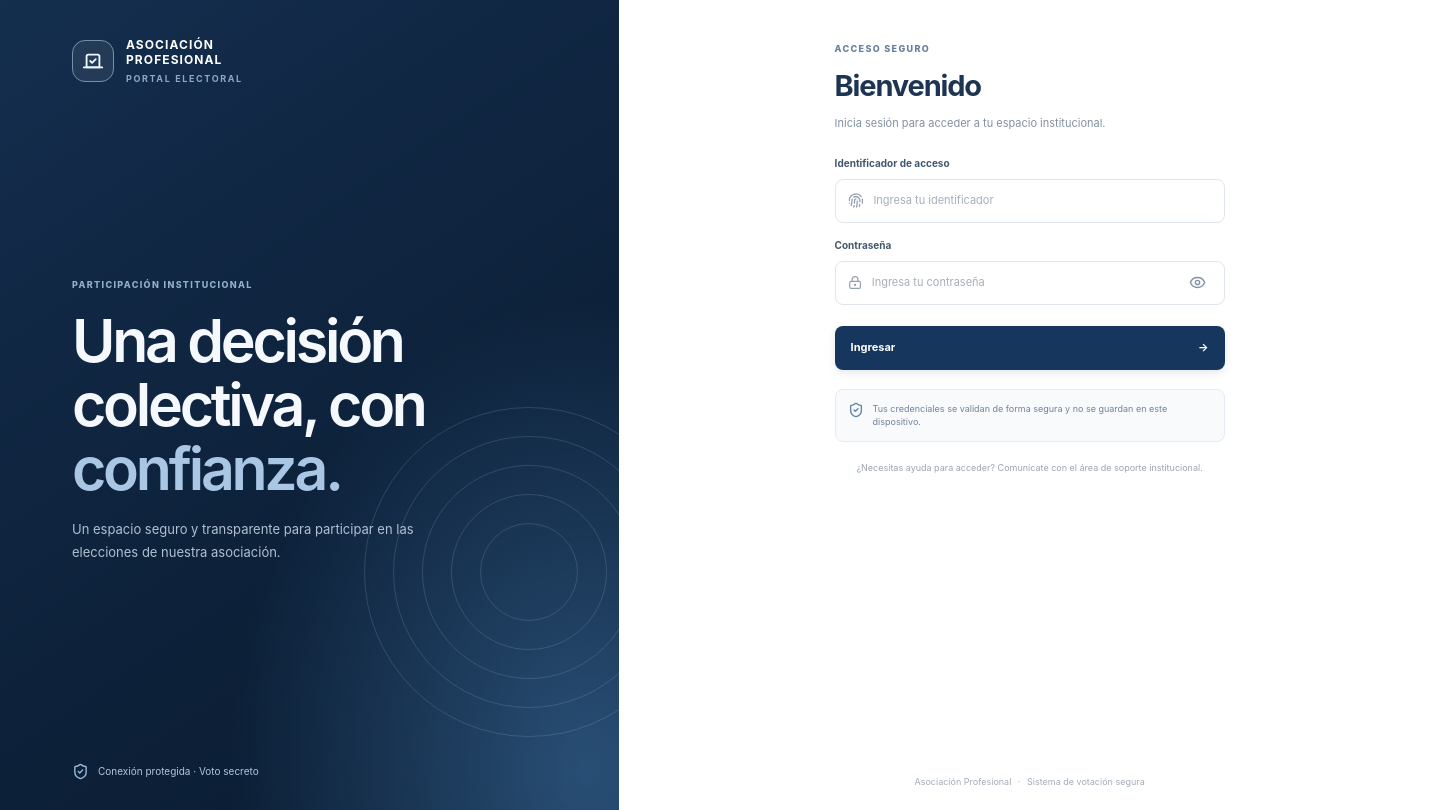
inicio de sesión › informa un error de autenticación sin revelar credenciales
Type "socio1" into the field labelled "Identificador de acceso". click: coordinates (1042, 200)
box: [873, 180, 1212, 221]
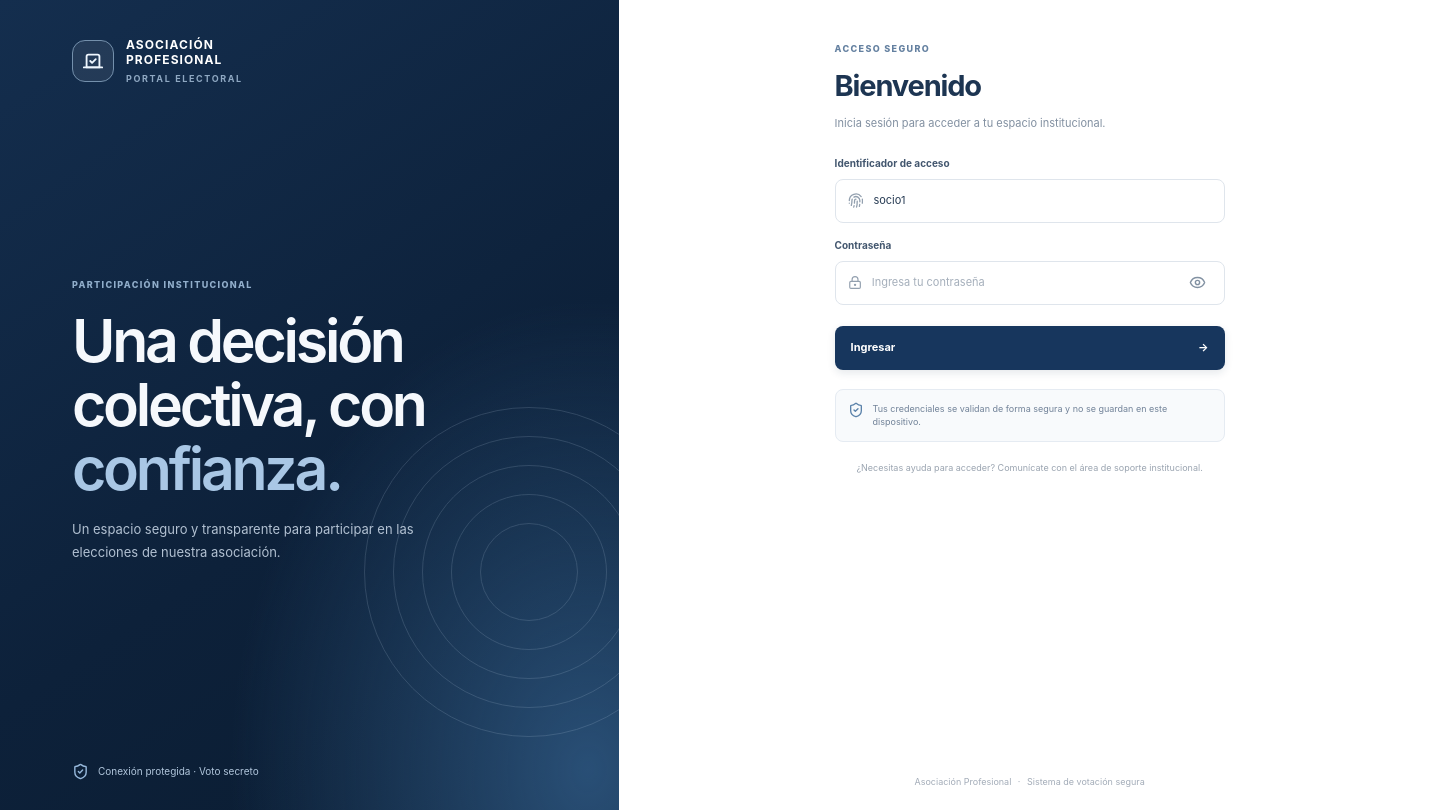
Type "incorrecta" into the password field labelled "Contraseña". click: coordinates (1023, 282)
box: [872, 262, 1174, 303]
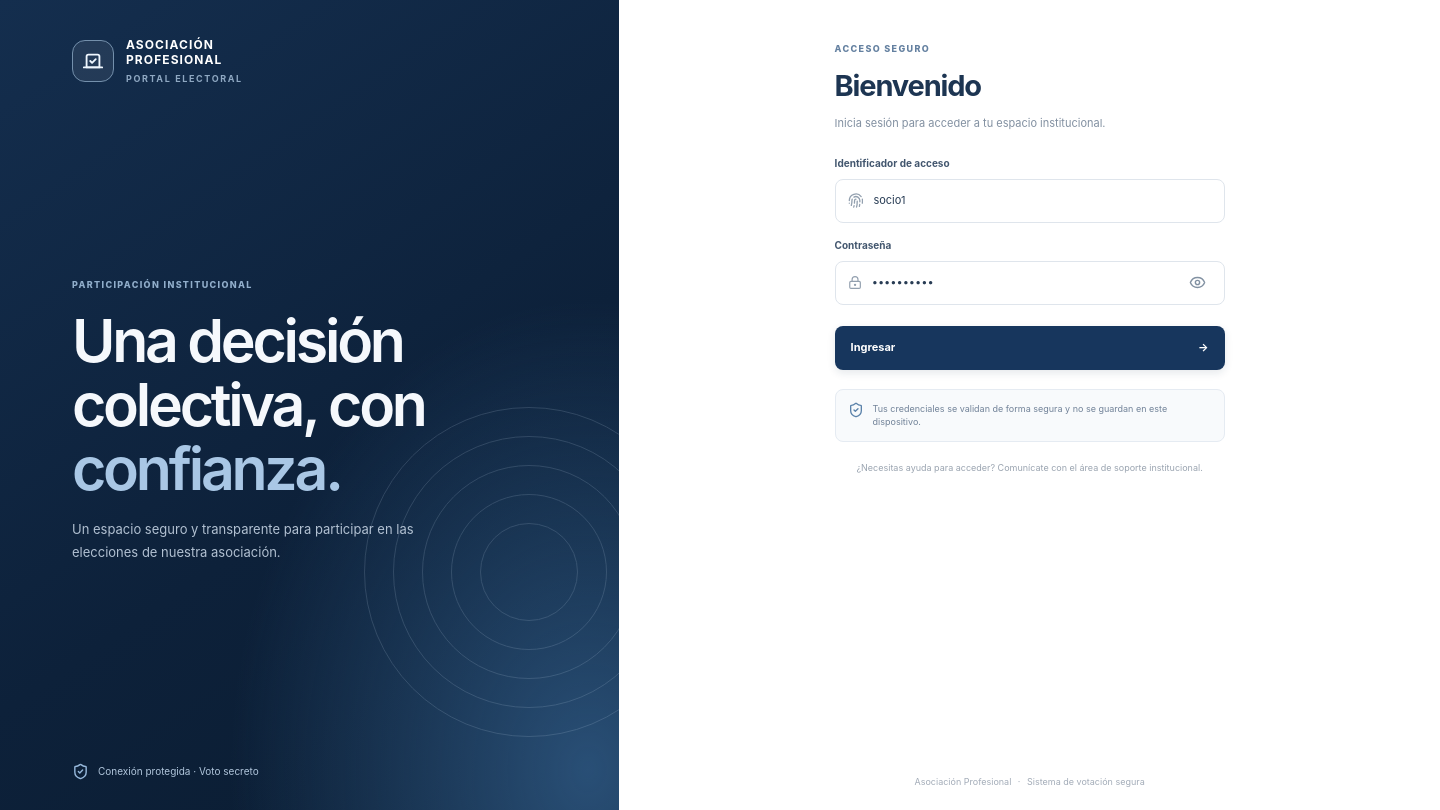
Click the button "Ingresar →". click: coordinates (873, 347)
box: [835, 326, 1225, 370]
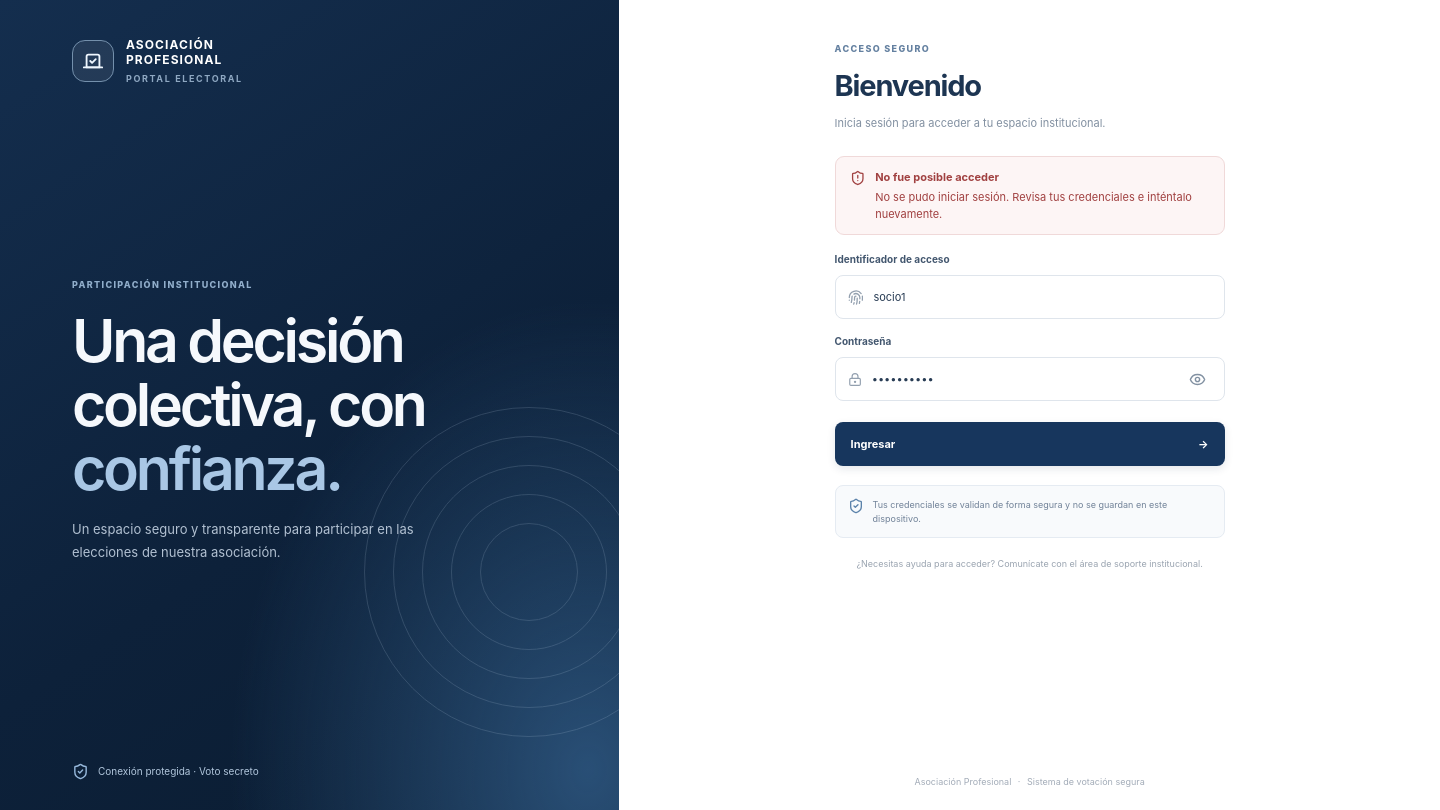
Expected: the text "No se pudo iniciar sesión. Revisa tus credenciales e inténtalo nuevamente." is shown, [875, 189, 1210, 222]
